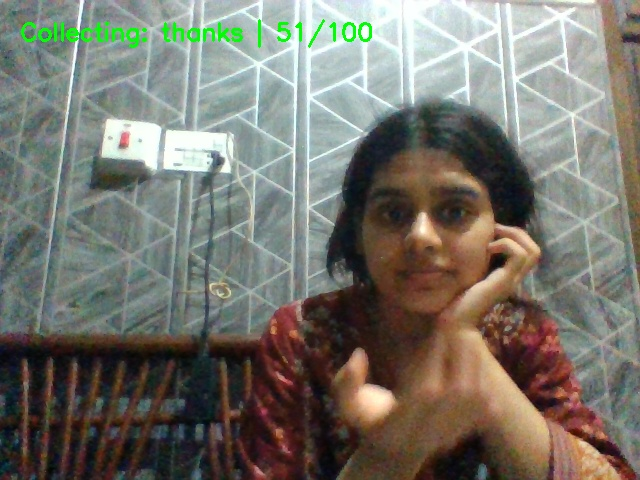thanks: (322, 332, 539, 480)
